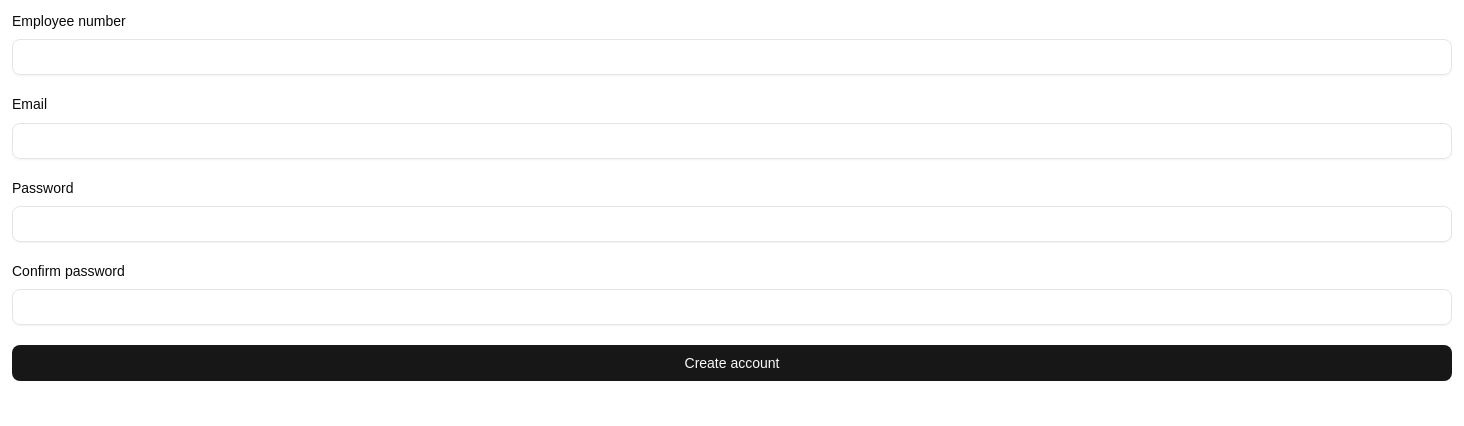
RegistrationForm › blocks submission when confirmPassword does not match password
In the field labelled "Employee number": (732, 57) [12,39,1452,75], type "EMP001"
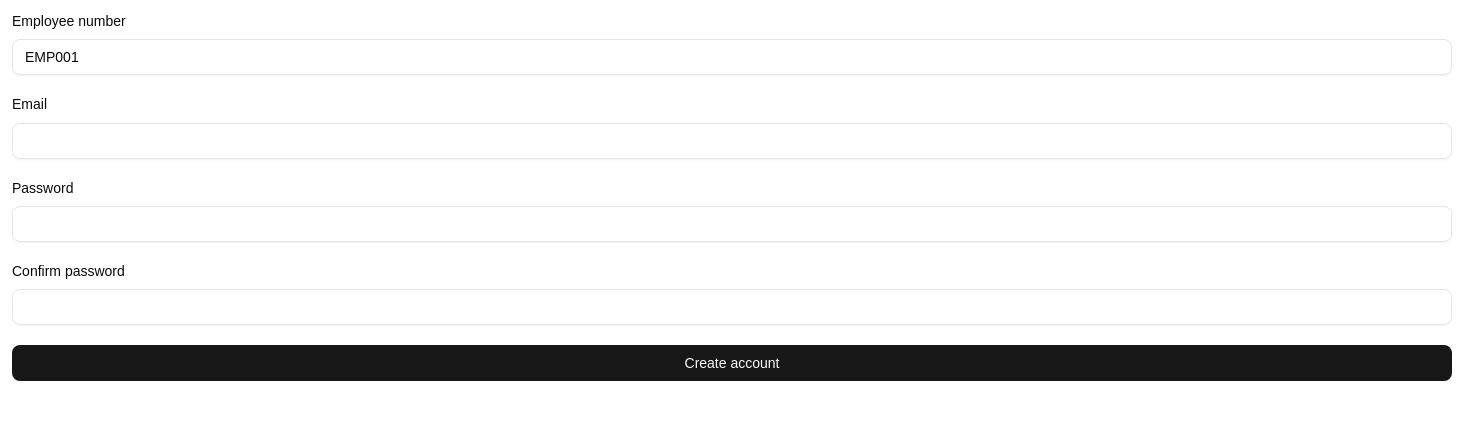
In the field labelled "Email": (732, 140) [12,122,1452,158], type "a@b.com"
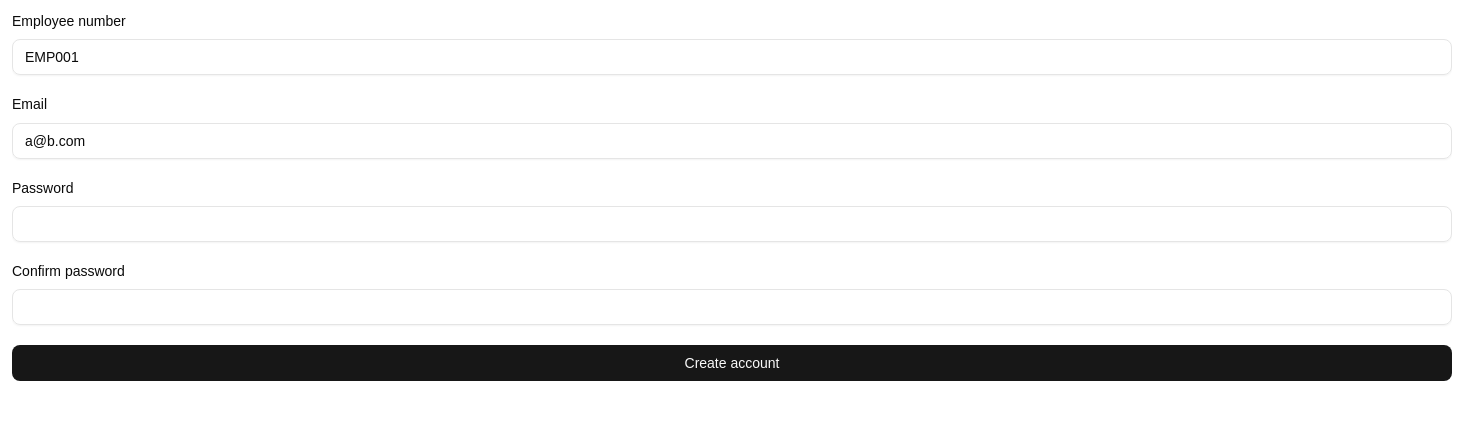
In the password field labelled "Password": (732, 224) [12,206,1452,242], type "password1"
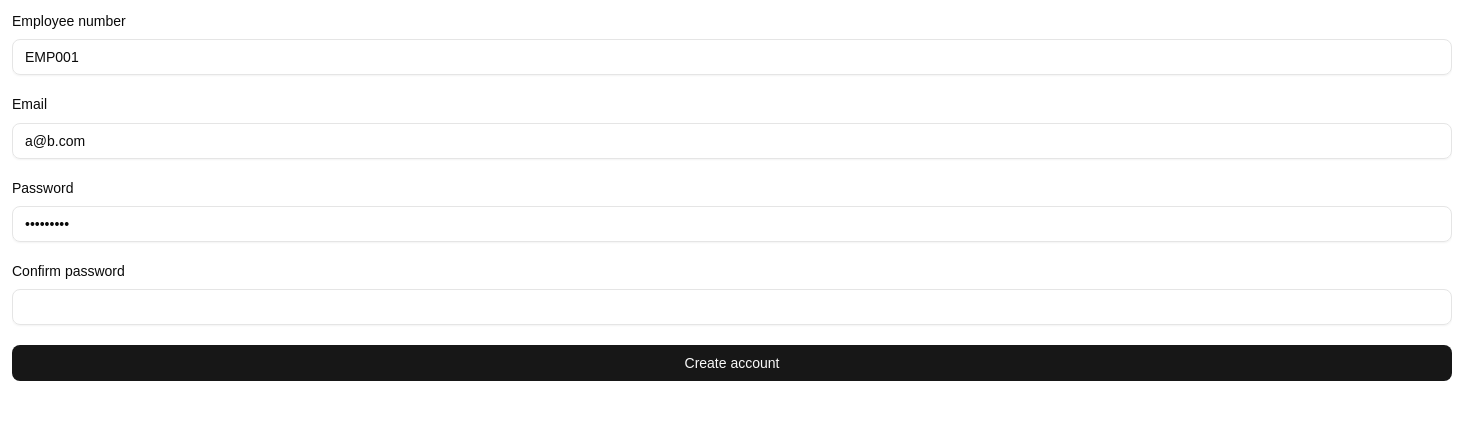
In the password field labelled "Confirm password": (732, 307) [12,289,1452,325], type "different1"
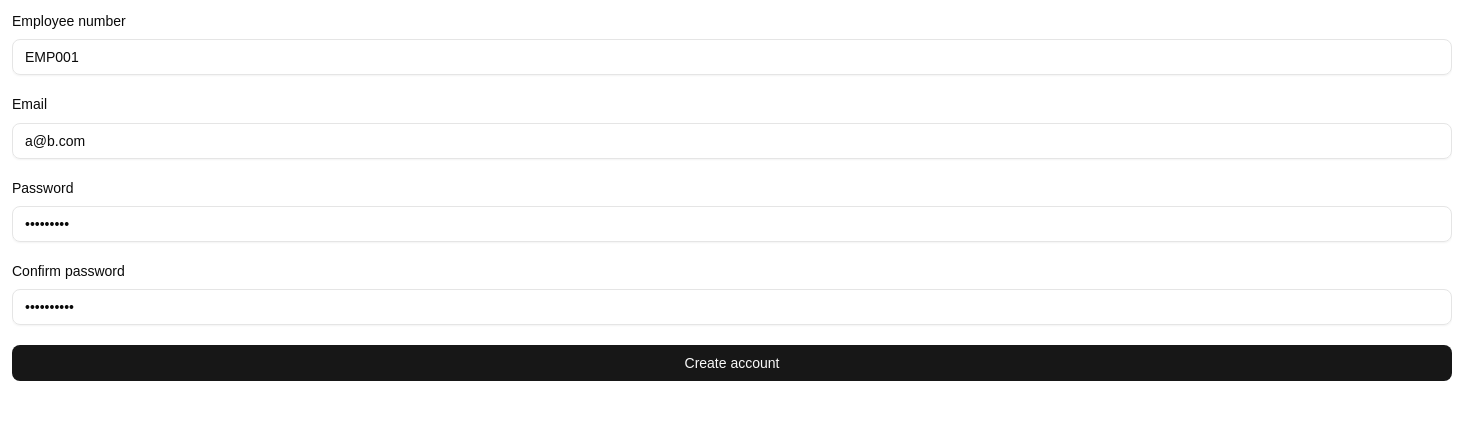
Click the button "Create account": (732, 363) [12,345,1452,381]
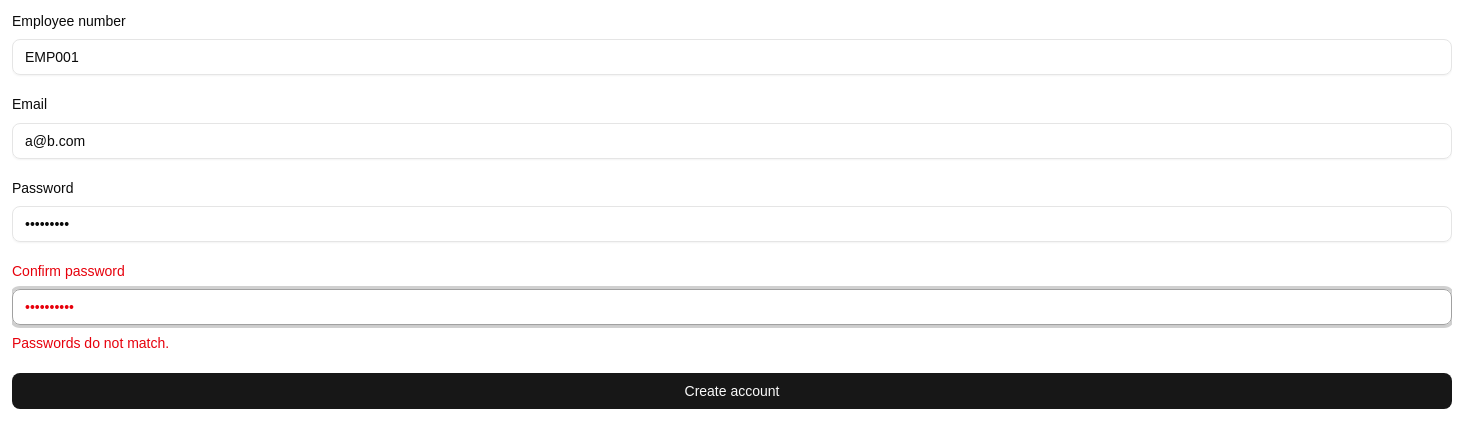
Result: the text "Passwords do not match." is shown at [12,335,169,351]
